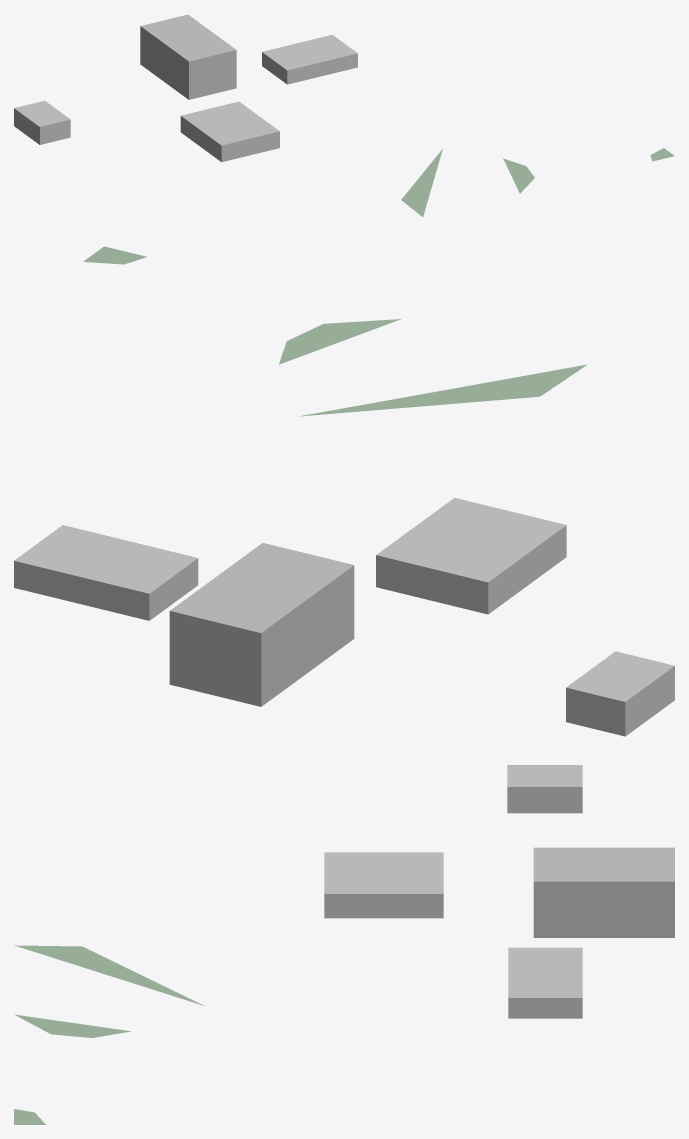
Rendered from 108_84_mid.glb.
3 views of the same model, one above another, from view 1: azimuth 30°, elevation 25°; view 2: azimuth 150°, elevation 25°; view 3: azimuth 270°, elevation 25° (orthographic). The views are drawn at different scales.
Size of the model in its own units: 418 by 33.77 by 351.
